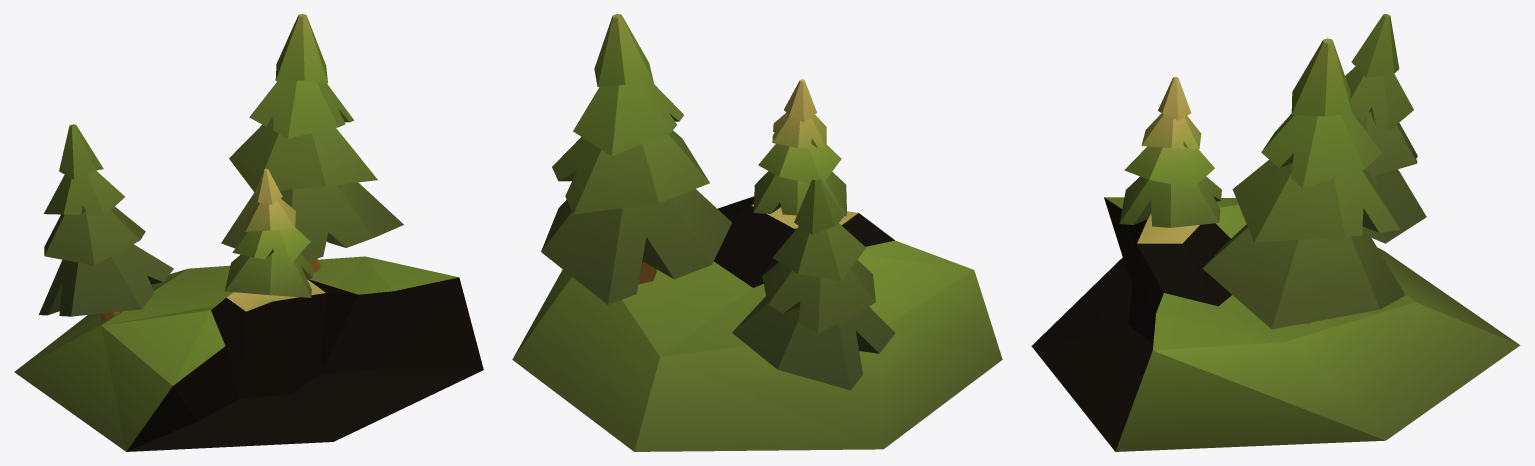
The model's file is coal-pine-tree.glb.
3 views of the same model, side by side, from view 1: azimuth 30°, elevation 25°; view 2: azimuth 150°, elevation 25°; view 3: azimuth 270°, elevation 25° (orthographic). The views are drawn at different scales.
Visible parts, largest first — view 1: plane, crown.002; view 2: plane, crown.002; view 3: plane, crown.002.
Part boxes in pixels (left/top/right/bottom): plane: left=14, top=256, right=483, bottom=451; crown.002: left=39, top=14, right=403, bottom=316; plane: left=512, top=196, right=1002, bottom=451; crown.002: left=541, top=14, right=895, bottom=390; plane: left=1031, top=197, right=1520, bottom=451; crown.002: left=1119, top=14, right=1426, bottom=329.
Bounding box in the file's own units: 1.47 × 1.23 × 1.51.
3 materials, 1 textured.
